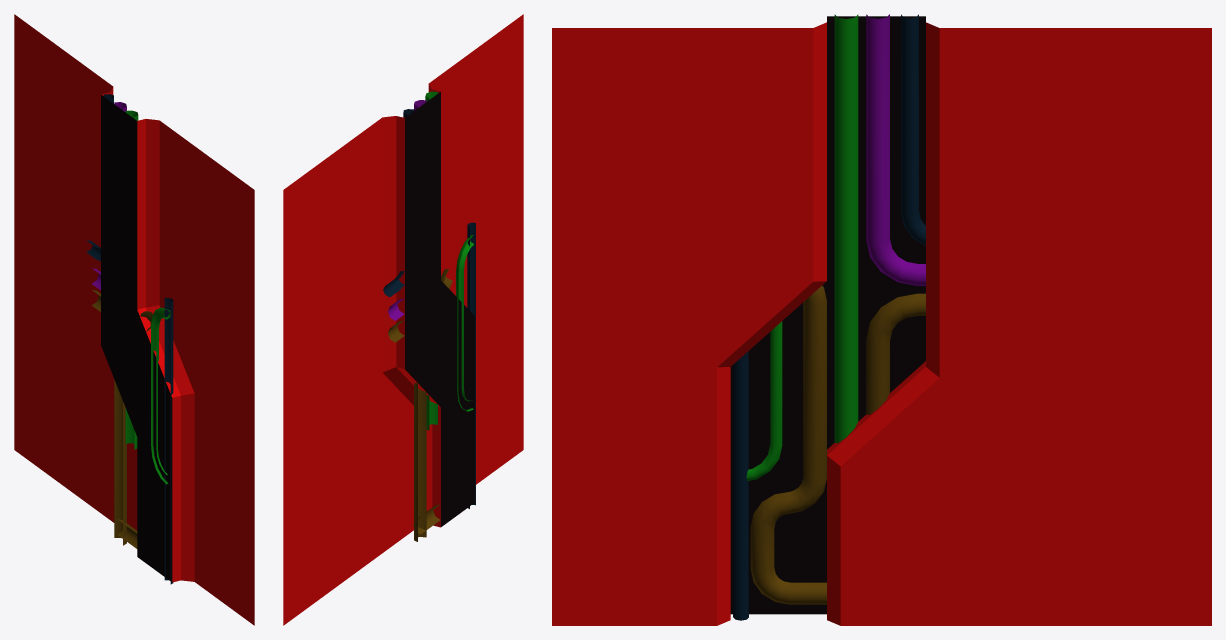
Rendered from OBJ_7_Mur.fbx.
The picture shows the model from 3 angles, left to right: view 1: azimuth 30°, elevation 25°; view 2: azimuth 150°, elevation 25°; view 3: azimuth 270°, elevation 25°; orthographic projection. The views are drawn at different scales.
Parts seen in each view (by area): view 1: OBJ_7_Mur; view 2: OBJ_7_Mur; view 3: OBJ_7_Mur.
Part boxes in pixels (x1=…): OBJ_7_Mur: x1=14, y1=14, x2=254, y2=625; OBJ_7_Mur: x1=283, y1=14, x2=523, y2=625; OBJ_7_Mur: x1=552, y1=14, x2=1211, y2=625.
Bounding box in the file's own units: 55.69 × 1212 × 1200.
